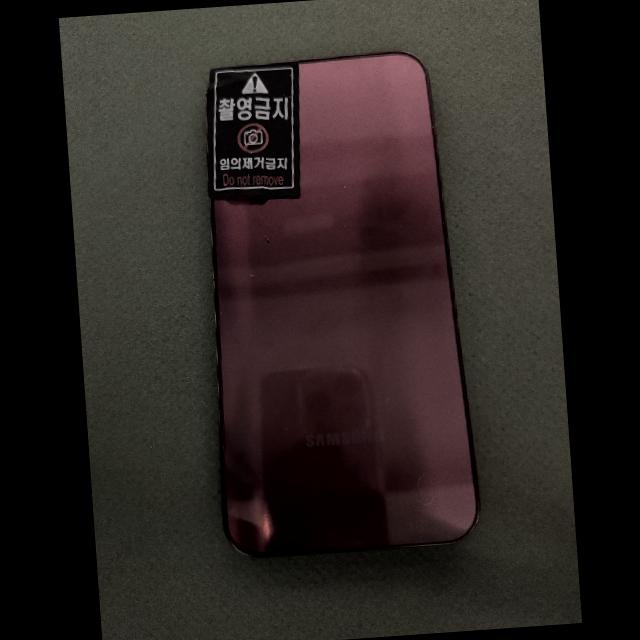phone: (206, 51, 479, 555)
sticker: (206, 62, 300, 199)
